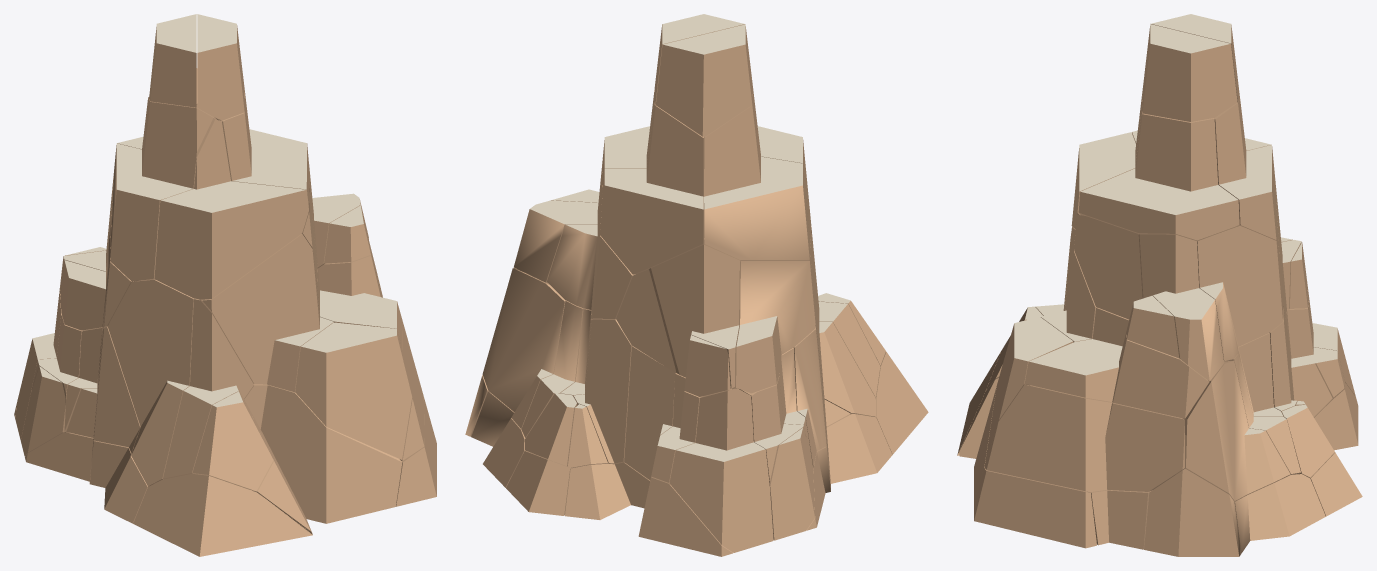
Rendered from formation_rock_destruct.fbx.
3 views of the same model, side by side, from view 1: azimuth 30°, elevation 25°; view 2: azimuth 150°, elevation 25°; view 3: azimuth 270°, elevation 25° (orthographic). The views are drawn at different scales.
Parts seen in each view (by area): view 1: formation_rock_cell.035, formation_rock_cell.002, formation_rock_cell.001, formation_rock_cell.011, formation_rock_cell.027, formation_rock_cell.039, formation_rock_cell.041, formation_rock_cell.021, formation_rock_cell.008, formation_rock_cell.028, formation_rock_cell.031, formation_rock_cell.019 (+13 smaller); view 2: formation_rock_cell.039, formation_rock_cell.009, formation_rock_cell.012, formation_rock_cell.013, formation_rock_cell.007, formation_rock_cell.017, formation_rock_cell.006, formation_rock_cell.015, formation_rock_cell.040, formation_rock_cell.010, formation_rock_cell.008, formation_rock_cell.038 (+22 smaller); view 3: formation_rock_cell.003, formation_rock_cell.031, formation_rock_cell.019, formation_rock_cell.015, formation_rock_cell.006, formation_rock_cell.014, formation_rock_cell.037, formation_rock_cell.022, formation_rock_cell, formation_rock_cell.009, formation_rock_cell.033, formation_rock_cell.036 (+20 smaller).
Part boxes in pixels (x1=…): formation_rock_cell.035: x1=154, y1=119, x2=308, y2=299; formation_rock_cell.002: x1=244, y1=384, x2=402, y2=533; formation_rock_cell.001: x1=295, y1=322, x2=412, y2=459; formation_rock_cell.011: x1=107, y1=279, x2=194, y2=486; formation_rock_cell.027: x1=199, y1=234, x2=333, y2=392; formation_rock_cell.039: x1=110, y1=98, x2=216, y2=281; formation_rock_cell.041: x1=133, y1=474, x2=312, y2=556; formation_rock_cell.021: x1=163, y1=298, x2=253, y2=479; formation_rock_cell.008: x1=25, y1=432, x2=147, y2=523; formation_rock_cell.028: x1=192, y1=391, x2=273, y2=491; formation_rock_cell.031: x1=216, y1=87, x2=309, y2=207; formation_rock_cell.019: x1=317, y1=238, x2=402, y2=348; formation_rock_cell.039: x1=704, y1=77, x2=810, y2=262; formation_rock_cell.009: x1=600, y1=104, x2=703, y2=274; formation_rock_cell.012: x1=669, y1=388, x2=773, y2=552; formation_rock_cell.013: x1=736, y1=260, x2=815, y2=393; formation_rock_cell.007: x1=649, y1=245, x2=740, y2=388; formation_rock_cell.017: x1=656, y1=24, x2=752, y2=136; formation_rock_cell.006: x1=482, y1=268, x2=565, y2=428; formation_rock_cell.015: x1=547, y1=179, x2=635, y2=319; formation_rock_cell.040: x1=573, y1=319, x2=631, y2=464; formation_rock_cell.010: x1=624, y1=346, x2=675, y2=480; formation_rock_cell.008: x1=806, y1=414, x2=892, y2=530; formation_rock_cell.038: x1=770, y1=428, x2=814, y2=540; formation_rock_cell.003: x1=984, y1=384, x2=1185, y2=491; formation_rock_cell.031: x1=1078, y1=106, x2=1239, y2=240; formation_rock_cell.019: x1=1024, y1=308, x2=1209, y2=418; formation_rock_cell.015: x1=1196, y1=226, x2=1283, y2=361; formation_rock_cell.006: x1=1183, y1=360, x2=1290, y2=501; formation_rock_cell.014: x1=1142, y1=24, x2=1237, y2=121; formation_rock_cell.037: x1=1138, y1=234, x2=1224, y2=381; formation_rock_cell.022: x1=1144, y1=468, x2=1240, y2=556; formation_rock_cell: x1=974, y1=468, x2=1096, y2=548; formation_rock_cell.009: x1=1214, y1=99, x2=1278, y2=251; formation_rock_cell.033: x1=1074, y1=214, x2=1142, y2=319; formation_rock_cell.036: x1=1234, y1=474, x2=1325, y2=553.
Size of the model in its own units: 106 by 122 by 107.
